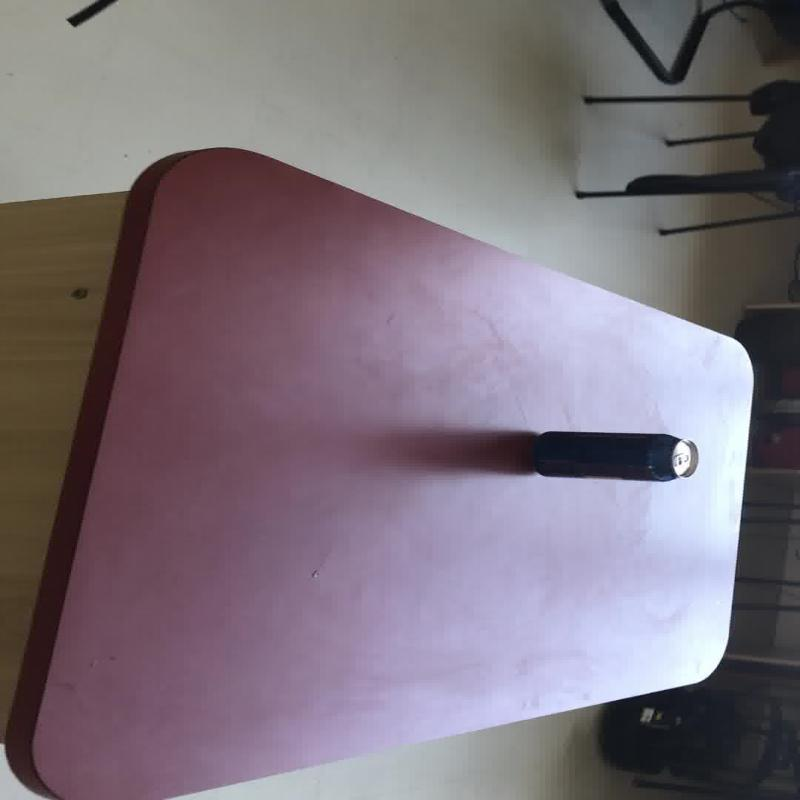tonic: (4, 145, 756, 797), (529, 429, 698, 482)
